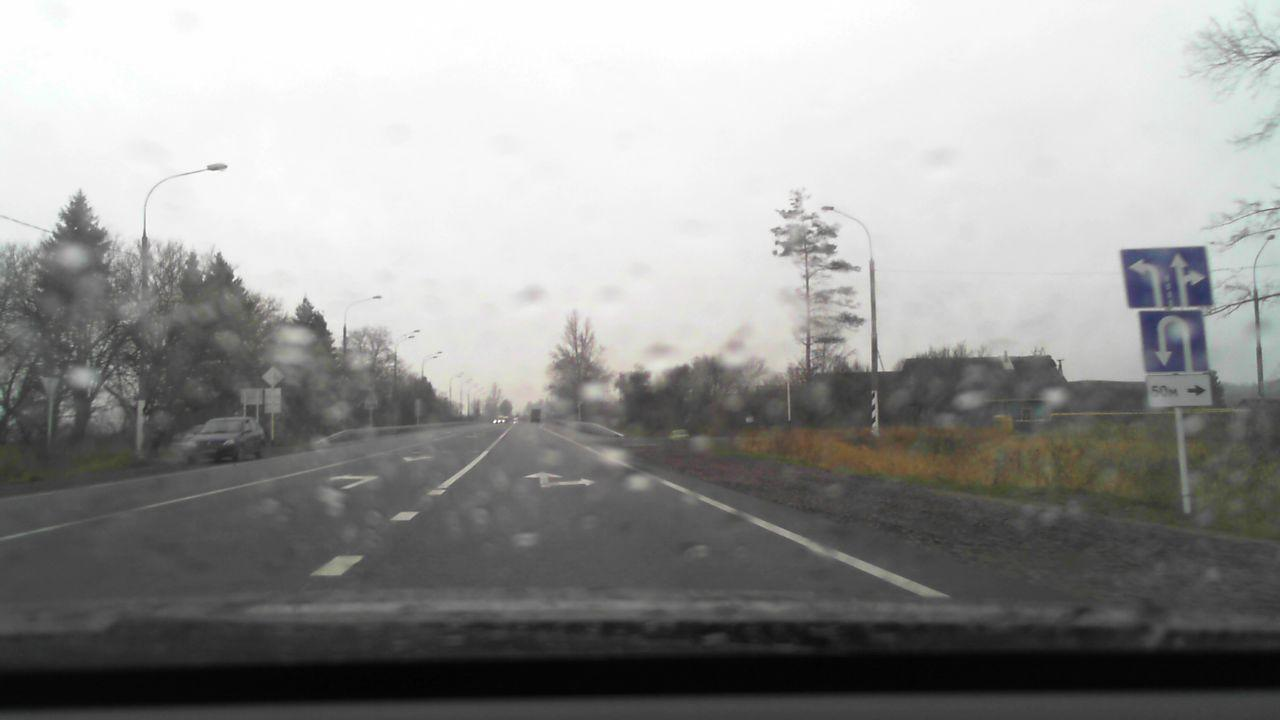5_15_1: (1117, 242, 1213, 309)
6_3_1: (1139, 311, 1209, 373)
8_1_3: (1146, 375, 1214, 407)
